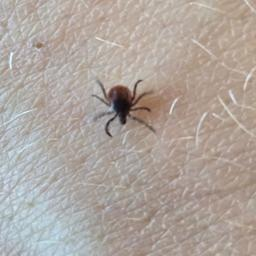Ixodes scapularis: (92, 81, 157, 138)
